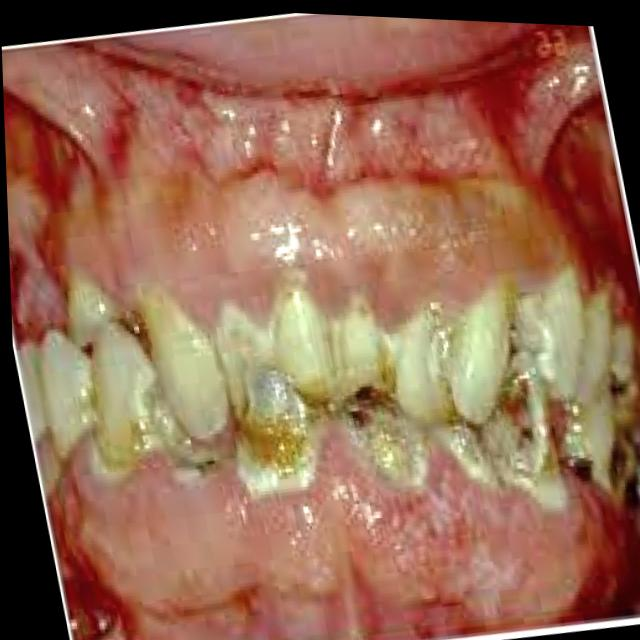gingivitis: (61, 395, 574, 640), (66, 170, 572, 325)
